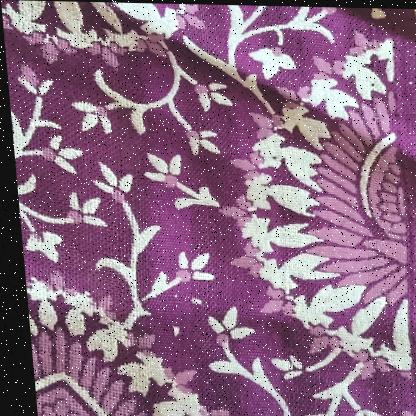spot: (259, 149, 277, 161)
